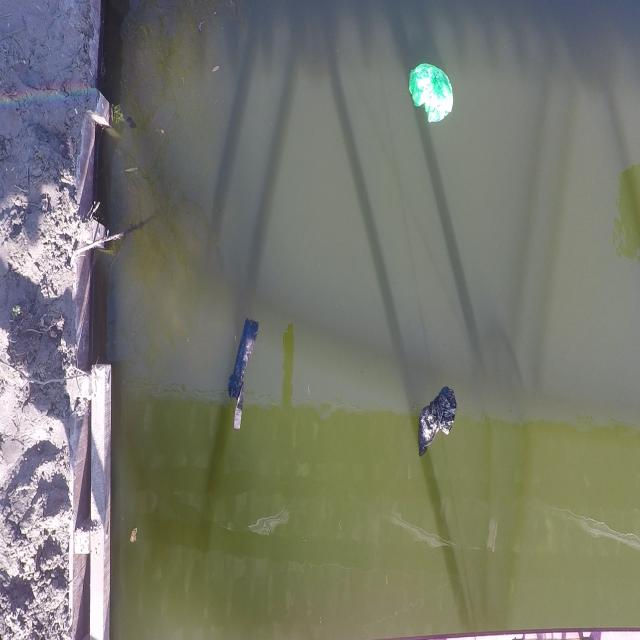Sac plastique: (222, 309, 262, 438), (413, 382, 461, 467), (406, 62, 458, 130)
